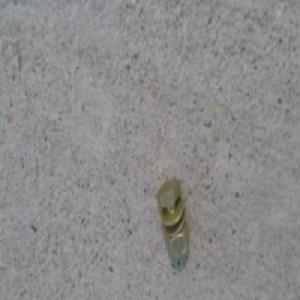BoltNutSet: (159, 173, 192, 256)
